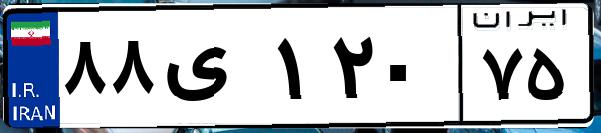0: (385, 28, 445, 110)
1: (270, 28, 330, 110)
2: (330, 28, 385, 110)
5: (525, 38, 570, 115)
7: (475, 38, 525, 113)
8: (57, 26, 110, 100), (110, 28, 158, 98)
ی: (158, 20, 270, 120)
